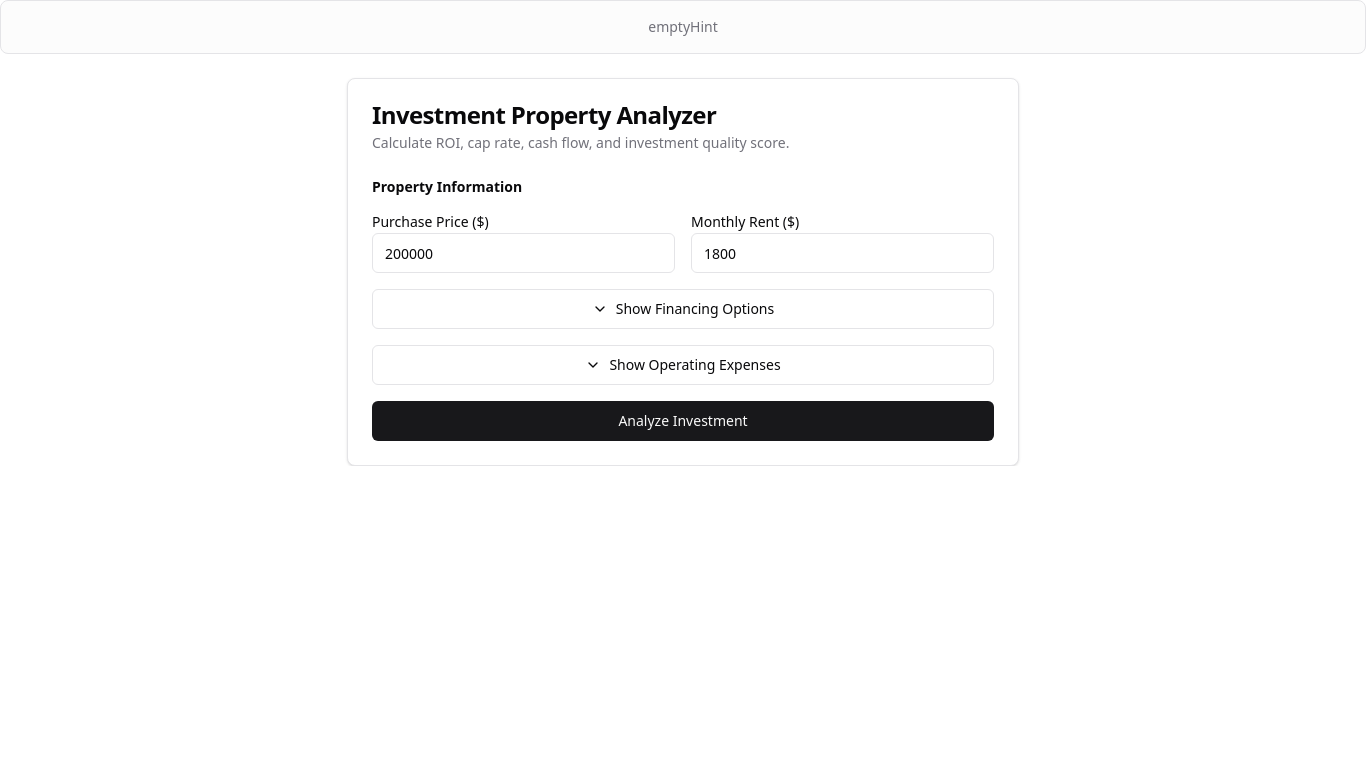
Test case: InvestmentAnalyzer › handles errors
This screenshot has width=1366, height=768.
Click the button "Analyze Investment" at (683, 421), box [372,401,994,441]
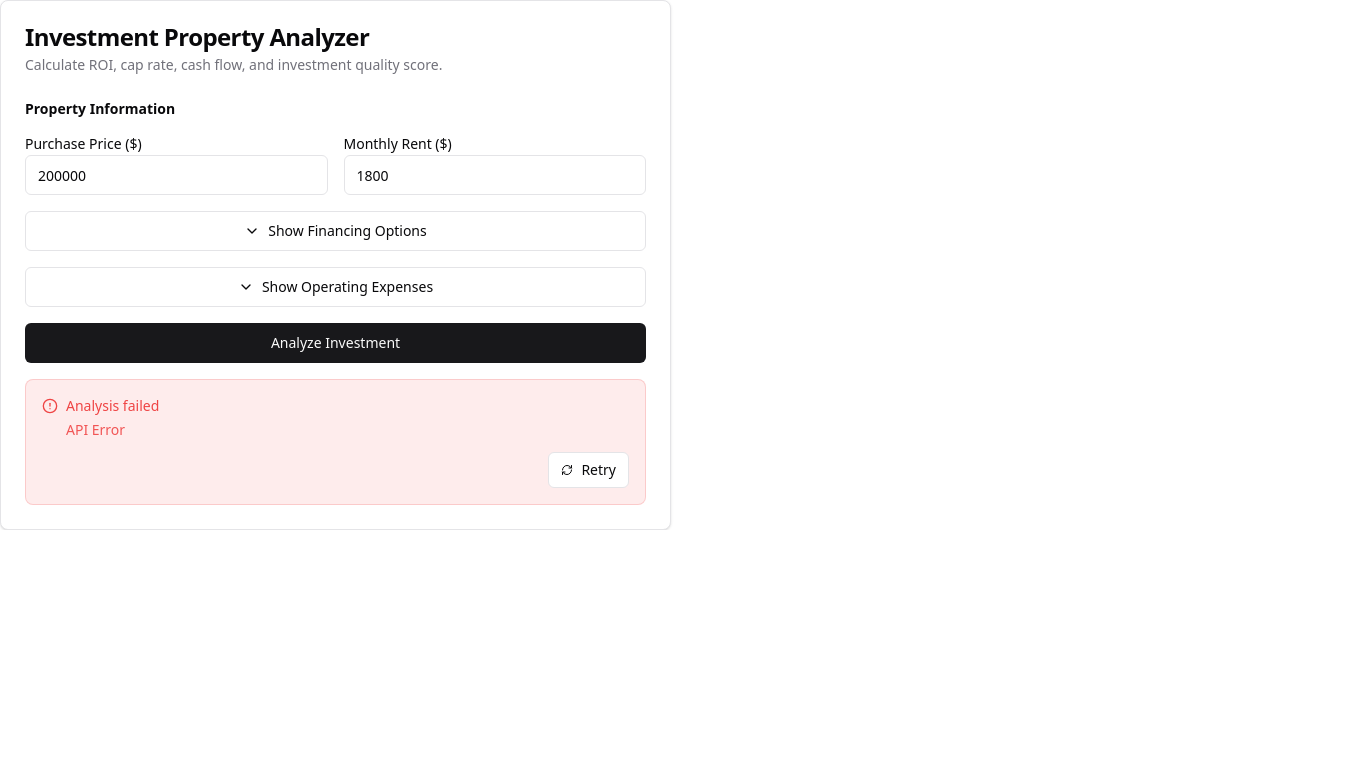
Result: the text "Analysis failed" is shown at [66,396,159,416]
